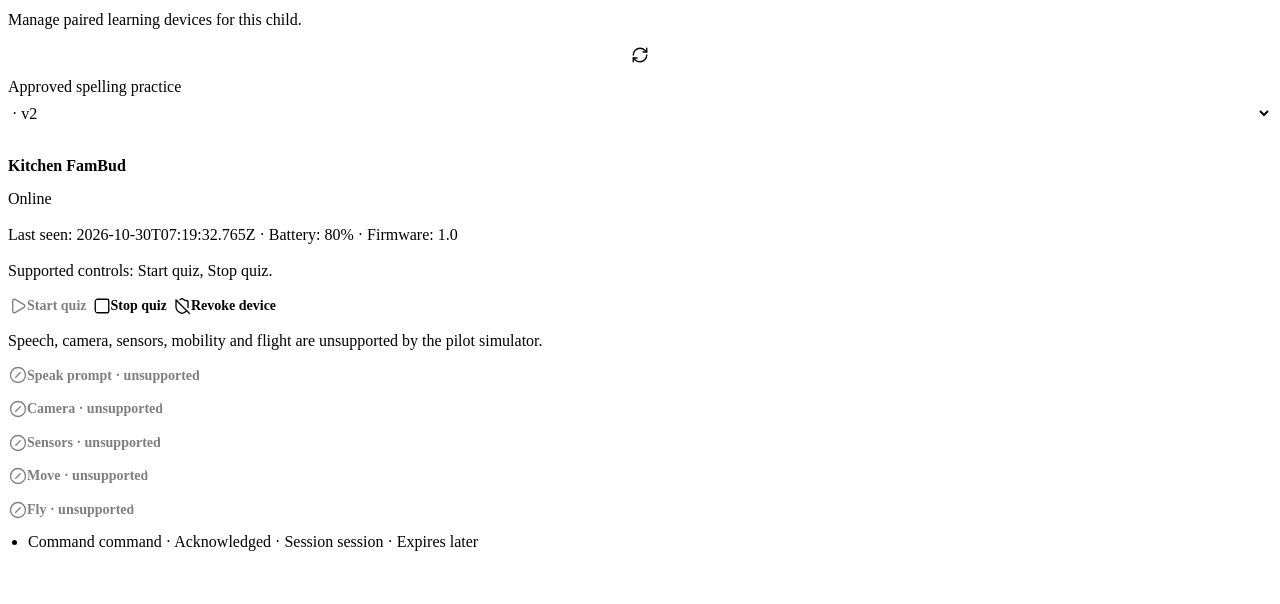
Test: revokes a device and blocks unsupported or stale controls
Click the button "Revoke device" at (224,306), box 172,295 -> 277,317
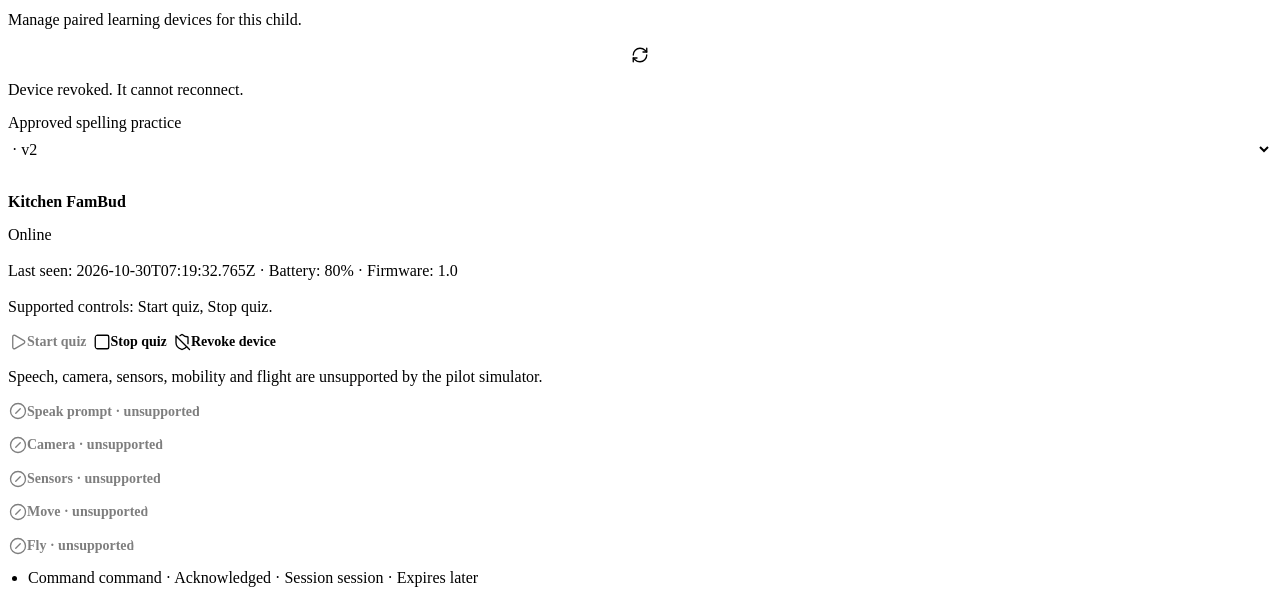
Click the button named "Refresh devices" at (640,55), box 8,44 -> 1272,66
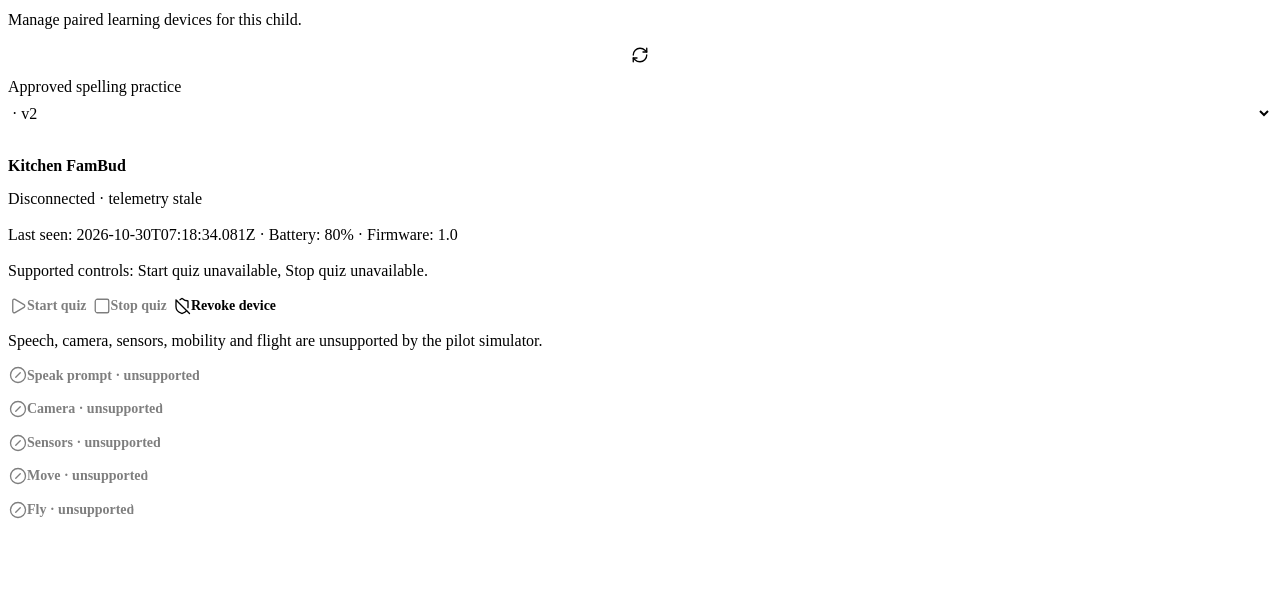
Expected: the button "Start quiz" is disabled, 8,295 -> 88,317
Result: the text "Disconnected · telemetry stale" is shown at 8,190 -> 202,207
Result: the button "Stop quiz" is disabled at 92,295 -> 168,317
